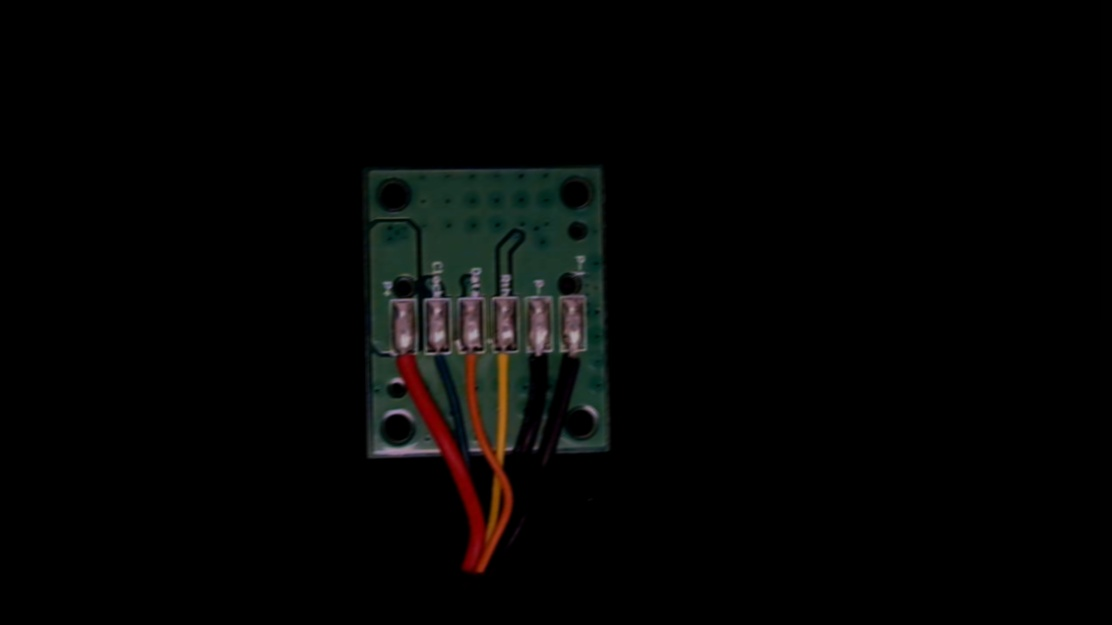Black: (524, 336, 554, 400)
Black1: (561, 337, 590, 396)
Green: (426, 335, 454, 386)
Orange: (459, 336, 487, 399)
Red: (389, 337, 419, 398)
Yellow: (490, 336, 520, 401)
